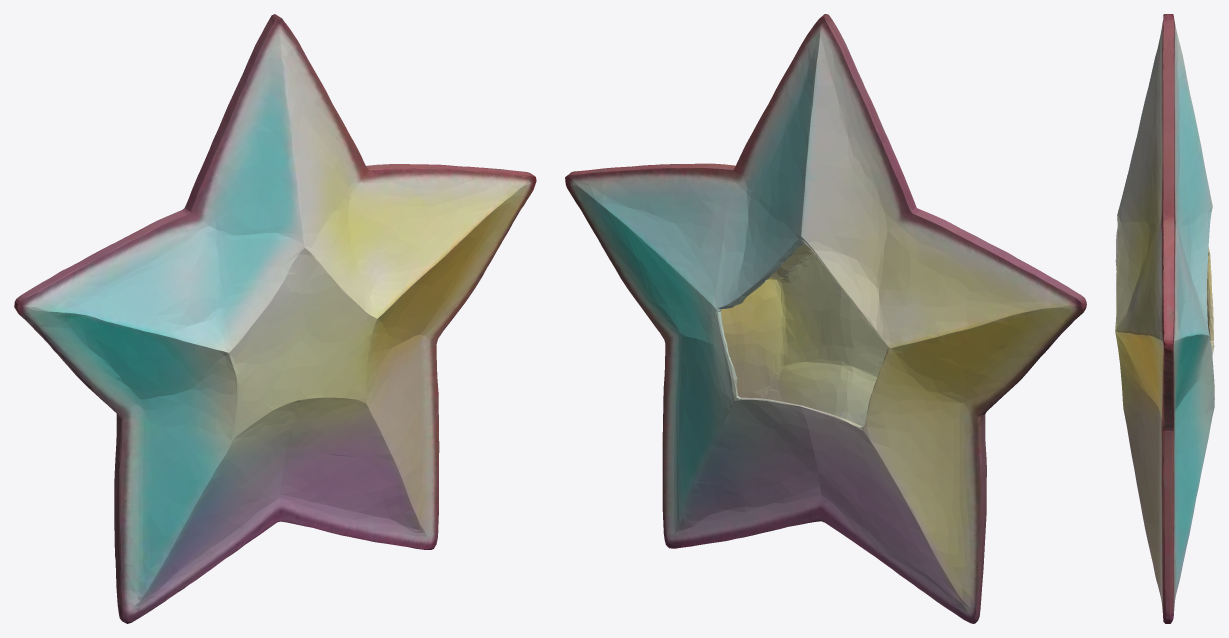
Rendered from star.glb.
3 views of the same model, side by side, from view 1: azimuth 30°, elevation 25°; view 2: azimuth 150°, elevation 25°; view 3: azimuth 270°, elevation 25° (orthographic). The views are drawn at different scales.
Parts seen in each view (by area): view 1: world; view 2: world; view 3: world.
Boxes of the visible parts, x1,y1,x2,y2 form: world: (14, 14, 536, 623); world: (565, 14, 1086, 623); world: (1115, 14, 1214, 623).
Size of the model in its own units: 0.945 by 0.9934 by 0.1664.
Materials: 1 (1 with a texture image).
